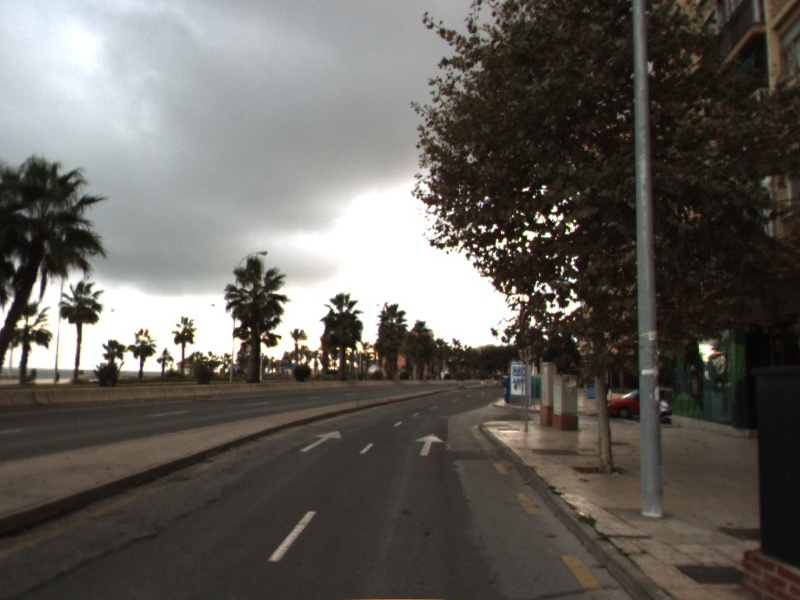STRAIGHT: (298, 429, 343, 453), (414, 432, 446, 457)
